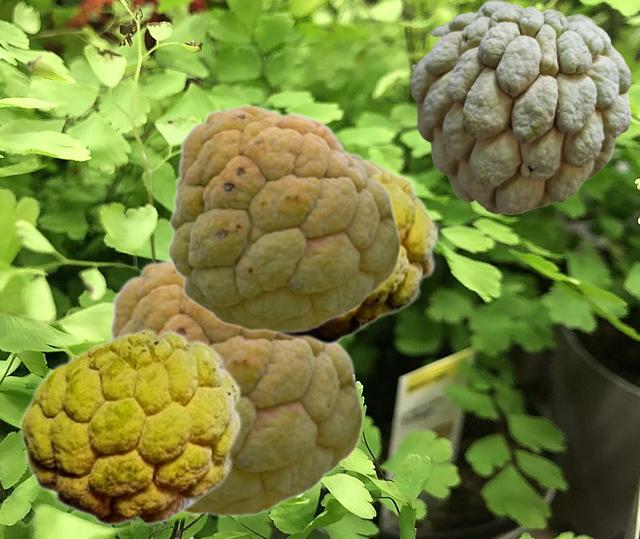atis: (106, 256, 363, 516), (166, 103, 400, 332), (410, 0, 630, 213), (18, 328, 241, 525), (268, 153, 438, 344)
